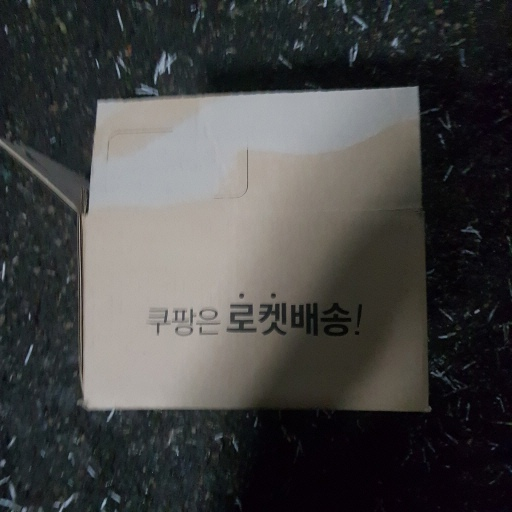Paper_0: (7, 94, 446, 422)
